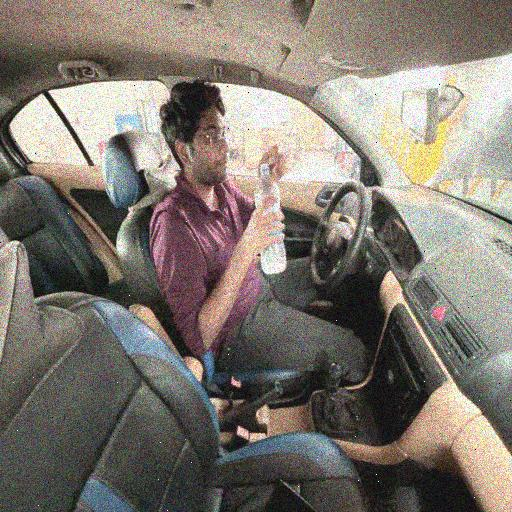Drinking: (148, 80, 298, 366)
